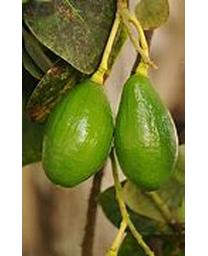avocado: (41, 79, 117, 188), (116, 71, 179, 188)
